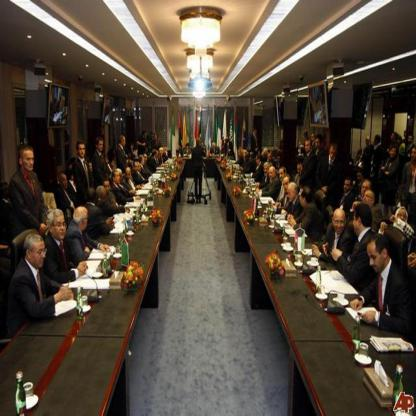face: (368, 246, 385, 272), (33, 243, 46, 268), (53, 218, 67, 241), (23, 150, 35, 171), (335, 214, 346, 235), (353, 214, 362, 233), (398, 210, 407, 227), (362, 183, 371, 198), (288, 187, 295, 202), (312, 99, 319, 112), (330, 148, 337, 160), (364, 194, 371, 206), (84, 213, 89, 229), (345, 180, 351, 193), (80, 145, 87, 156), (299, 190, 304, 205), (284, 179, 290, 191), (279, 170, 285, 182), (62, 178, 68, 190), (269, 169, 275, 179), (126, 170, 132, 180), (104, 182, 110, 192), (357, 173, 363, 182), (391, 149, 397, 158), (134, 163, 140, 172), (306, 142, 311, 152), (316, 139, 321, 149), (116, 173, 121, 183), (412, 149, 416, 161), (298, 165, 303, 174), (99, 142, 104, 151), (265, 166, 269, 176), (144, 155, 148, 164), (366, 138, 371, 145), (89, 164, 94, 171), (409, 137, 414, 143), (269, 154, 273, 161), (257, 157, 261, 164), (311, 134, 315, 141), (392, 134, 396, 141), (226, 139, 230, 145), (374, 137, 378, 143), (186, 145, 190, 151), (124, 138, 127, 146), (239, 151, 242, 158), (143, 157, 146, 164), (358, 150, 362, 155), (213, 143, 216, 149), (156, 151, 159, 157), (254, 131, 257, 137), (263, 150, 266, 156), (164, 148, 167, 154), (155, 136, 158, 141), (145, 132, 147, 136)
